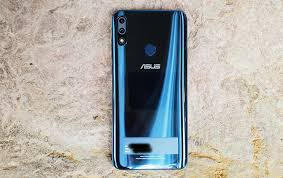asus: (109, 7, 190, 172)
